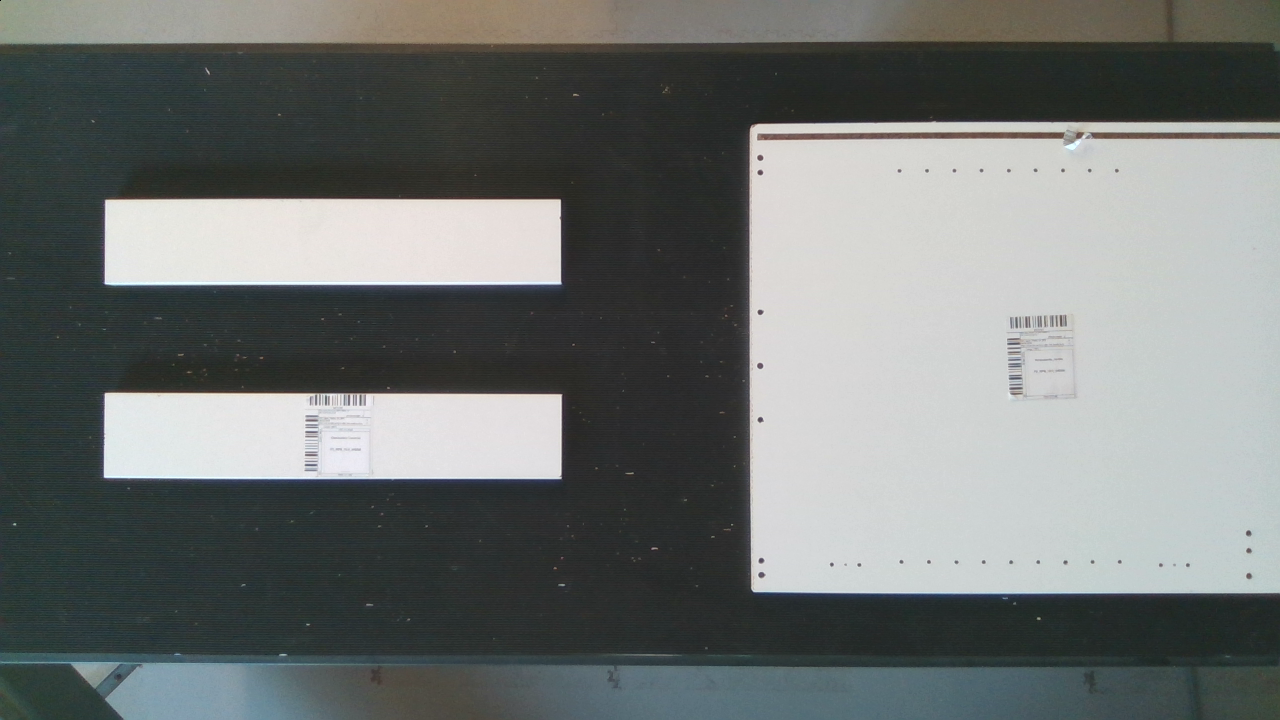barcode: (1001, 299, 1094, 412), (301, 386, 388, 482)
part1: (90, 187, 574, 306), (94, 374, 567, 494)
part2: (727, 108, 1280, 600)
